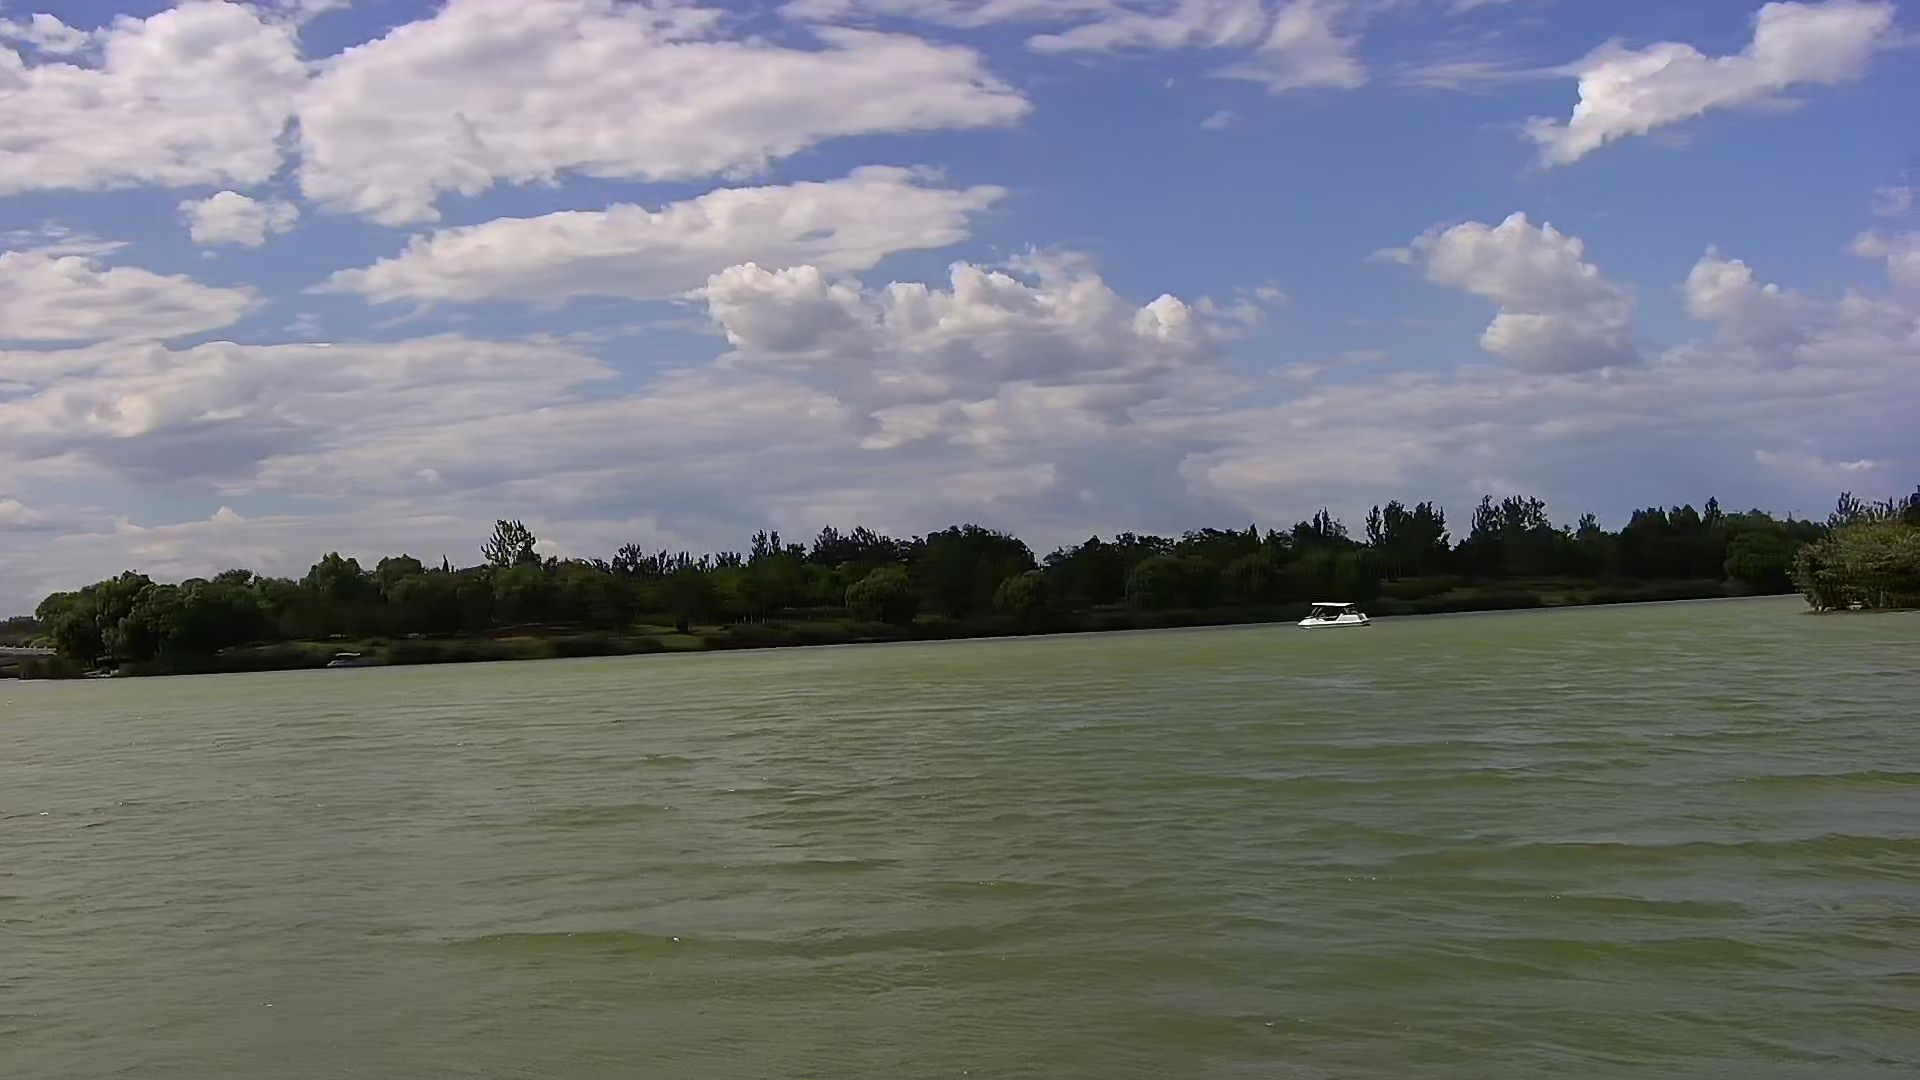boat: (1295, 599, 1369, 629), (322, 649, 375, 673)
